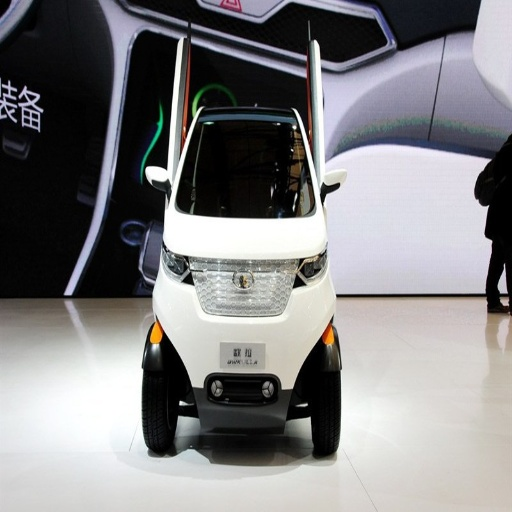front_bumper: (156, 255, 335, 416)
front_right_light: (204, 264, 262, 315)
hood: (171, 190, 325, 258)
